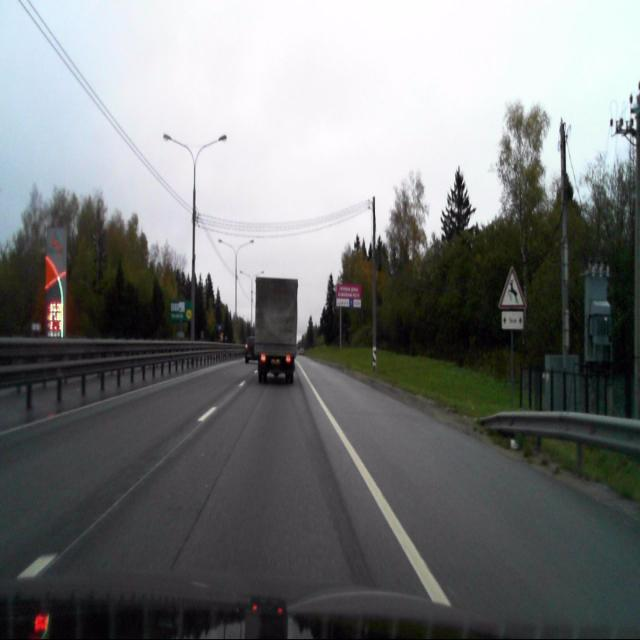road sign: (498, 266, 526, 309), (502, 311, 524, 329)
